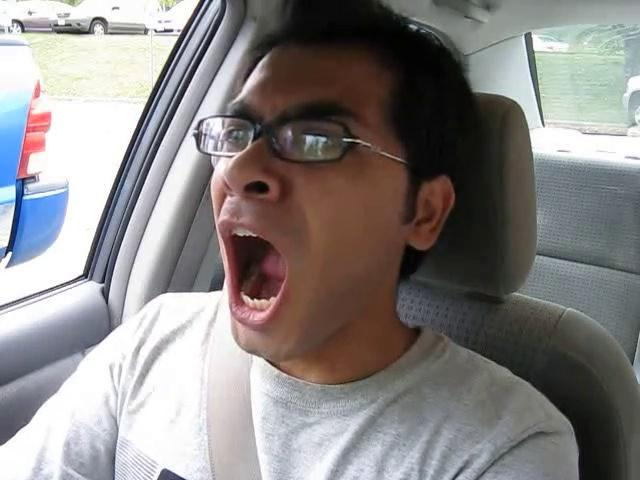open_eyeL: (201, 113, 273, 160)
open_eyeR: (280, 117, 361, 166)
yawn: (207, 218, 307, 339)
